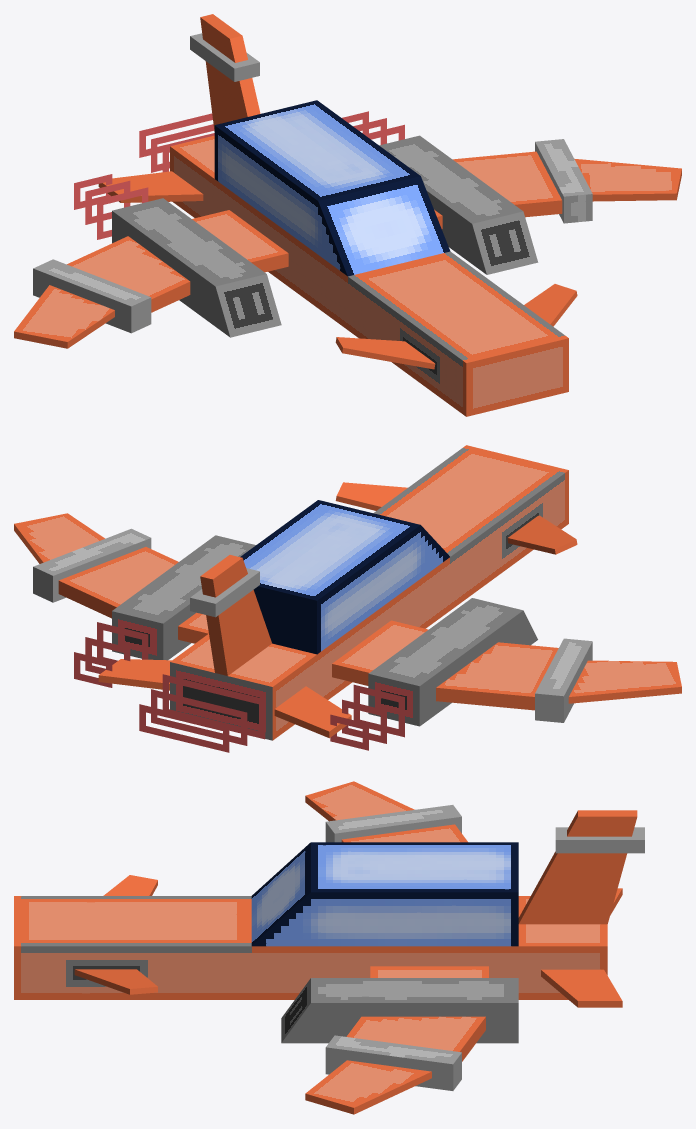
Rendered from spaceship.gltf.
3 views of the same model, one above another, from view 1: azimuth 30°, elevation 25°; view 2: azimuth 150°, elevation 25°; view 3: azimuth 270°, elevation 25° (orthographic).
Visible parts, largest first — view 1: body, cockpit, wings_right, wings_left, mesh (×3), plane (×4); view 2: body, wings_right, cockpit, wings_left, mesh (×4), plane (×9); view 3: body, cockpit, wings_left, mesh (×3), wings_right.
Boxes of the visible parts, x1,y1,x2,y2 form: body: (170, 135, 577, 416); cockpit: (214, 100, 450, 276); wings_right: (14, 198, 288, 348); wings_left: (379, 135, 681, 274); mesh (×3): (98, 14, 260, 202); plane (×4): (85, 113, 214, 239); body: (170, 445, 577, 740); wings_right: (332, 598, 681, 726); cockpit: (240, 500, 449, 654); wings_left: (14, 513, 255, 660); mesh (×4): (98, 555, 351, 738); plane (×9): (74, 622, 404, 752); body: (14, 875, 607, 999); cockpit: (251, 842, 518, 946); wings_left: (281, 966, 518, 1114); mesh (×3): (518, 810, 644, 1007); wings_right: (305, 781, 467, 842).
Size of the model in its own units: 3.25 by 0.75 by 2.81.
1 material, 1 textured.
